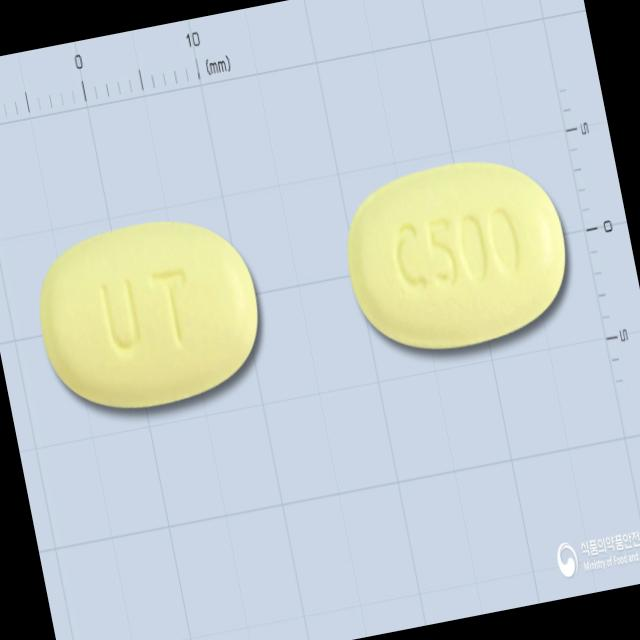Claxin: (24, 200, 277, 431), (330, 140, 586, 368)
